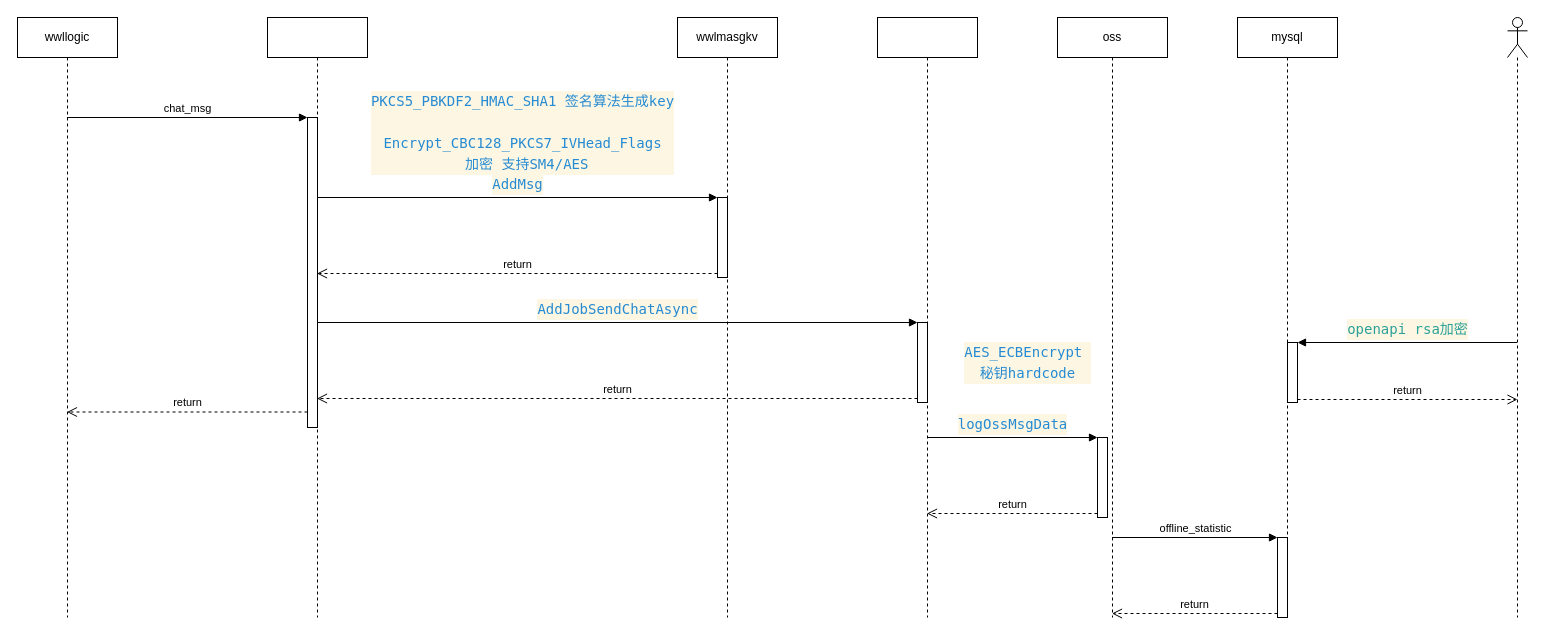
Some shapes in this 1545 by 641 pixel diagram are drawn without their labels. The shapes that lost their labels are listed below. From the top down, each one's box as (x1, y1, x2, y2) in pixels, then its label:
(266, 16, 368, 618): wwlchatlogicsvr
(876, 16, 978, 618): mq
